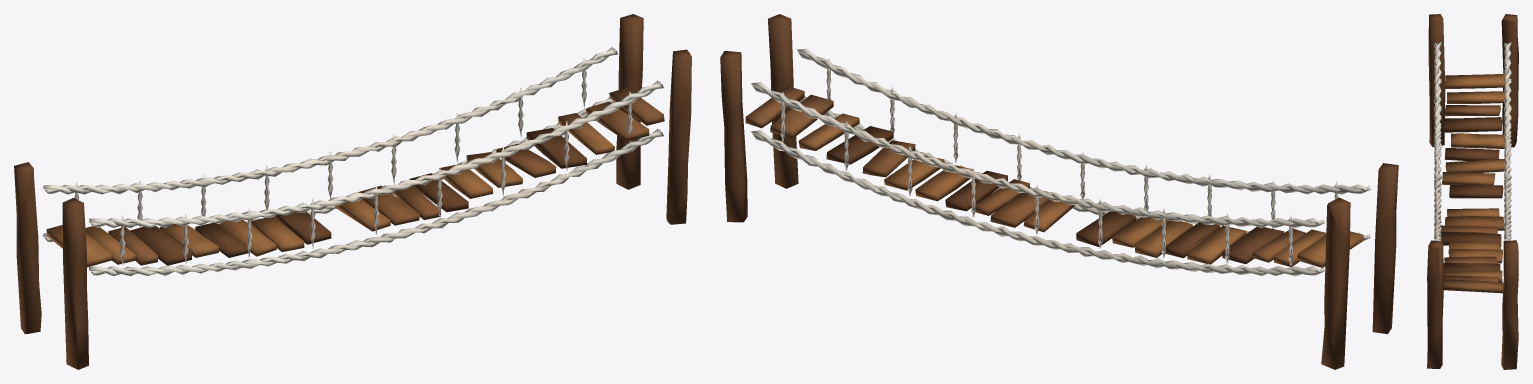
Rendered from glade_bridge_rope_lod1.glb.
3 views of the same model, side by side, from view 1: azimuth 30°, elevation 25°; view 2: azimuth 150°, elevation 25°; view 3: azimuth 270°, elevation 25° (orthographic). The views are drawn at different scales.
Parts seen in each view (by area): view 1: glade_bridge_rope.001; view 2: glade_bridge_rope.001; view 3: glade_bridge_rope.001.
Boxes of the visible parts, x1=… form: glade_bridge_rope.001: x1=14, y1=14, x2=691, y2=369; glade_bridge_rope.001: x1=720, y1=14, x2=1398, y2=369; glade_bridge_rope.001: x1=1427, y1=14, x2=1518, y2=369.
Size of the model in its own units: 19.76 by 4.99 by 3.29.
